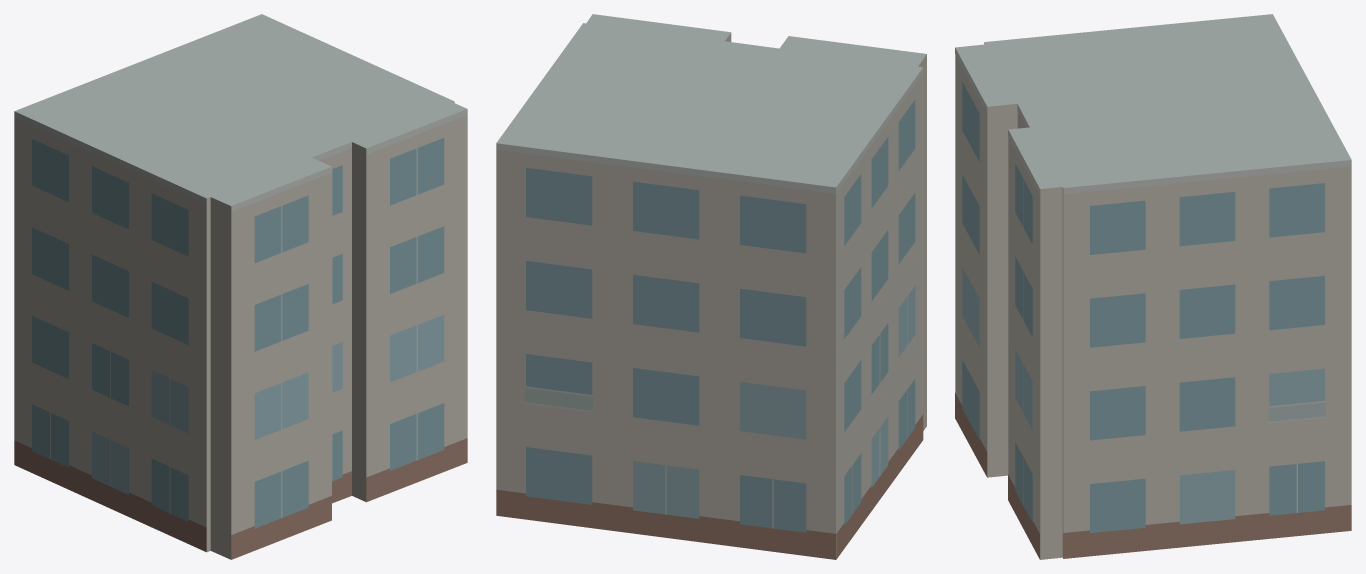
The model's file is survey-upis-32621018.glb.
The picture shows the model from 3 angles, left to right: view 1: azimuth 30°, elevation 25°; view 2: azimuth 150°, elevation 25°; view 3: azimuth 270°, elevation 25°; orthographic projection. The views are drawn at different scales.
Parts seen in each view (by area): view 1: survey-upis-32621018.tmp; view 2: survey-upis-32621018.tmp; view 3: survey-upis-32621018.tmp.
Boxes of the visible parts, x1=… form: survey-upis-32621018.tmp: x1=14, y1=14, x2=467, y2=559; survey-upis-32621018.tmp: x1=496, y1=14, x2=926, y2=559; survey-upis-32621018.tmp: x1=955, y1=14, x2=1351, y2=559.
Bounding box in the file's own units: 14.52 × 14.33 × 13.9.
